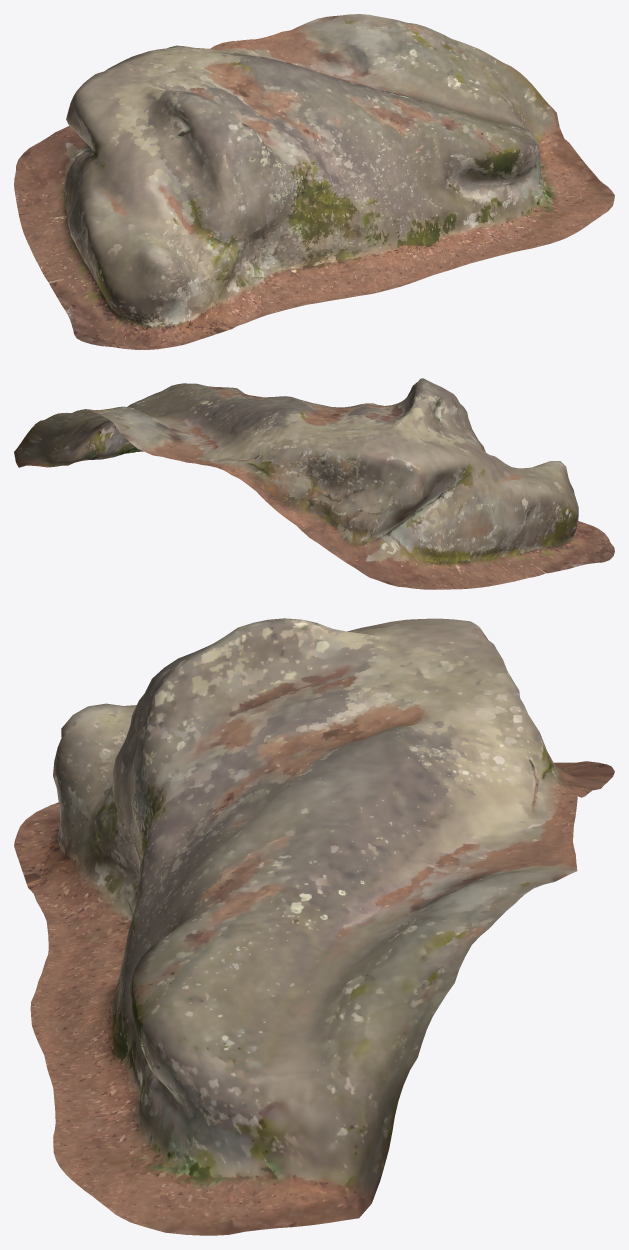
File: Rock_08.FBX
3 views of the same model, one above another, from view 1: azimuth 30°, elevation 25°; view 2: azimuth 150°, elevation 25°; view 3: azimuth 270°, elevation 25° (orthographic). The views are drawn at different scales.
Visible parts, largest first — view 1: Rock08_LOD0; view 2: Rock08_LOD0; view 3: Rock08_LOD0.
Boxes of the visible parts, x1=… form: Rock08_LOD0: x1=14, y1=14, x2=614, y2=349; Rock08_LOD0: x1=14, y1=378, x2=614, y2=589; Rock08_LOD0: x1=14, y1=618, x2=614, y2=1235.
Size of what is drawn, in the model's own units: 8.28 by 4.64 by 2.48.
1 material, 1 textured.
